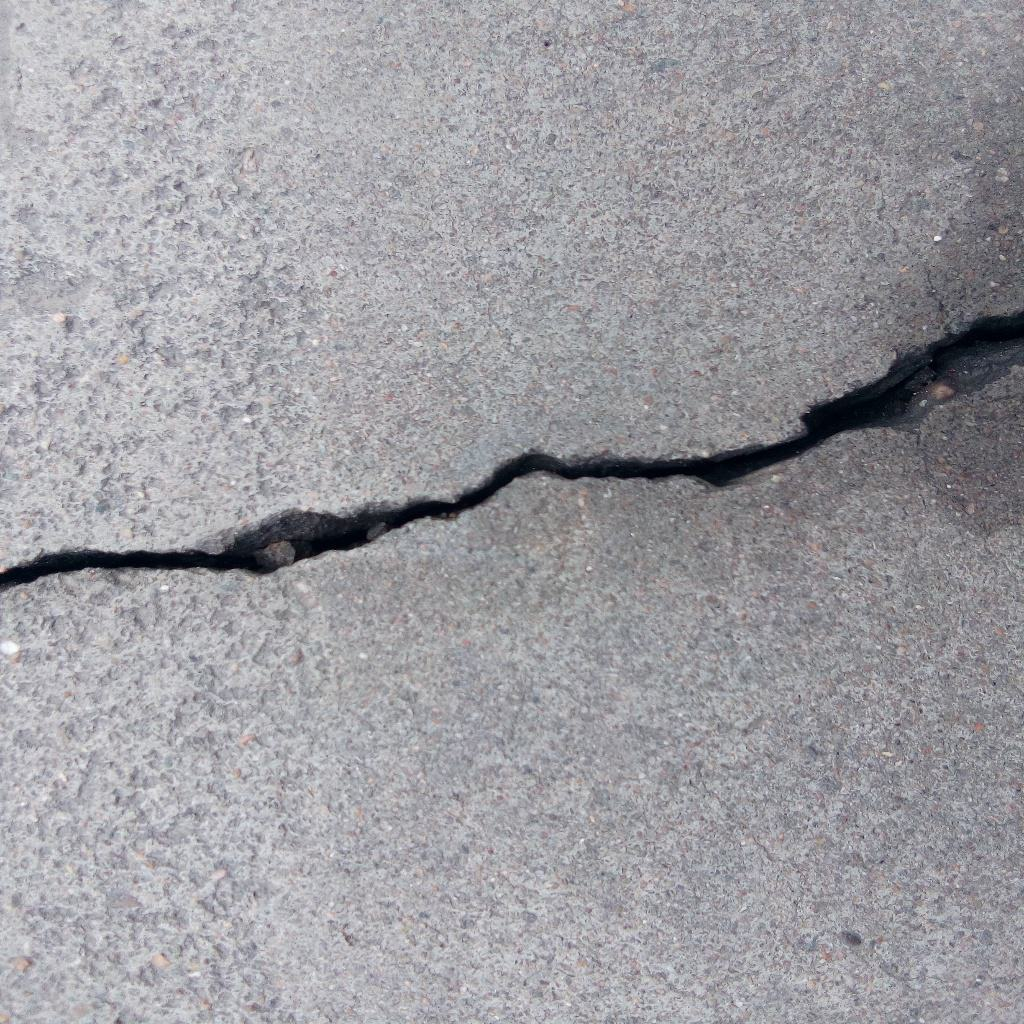Crack: (1, 310, 1024, 594)
